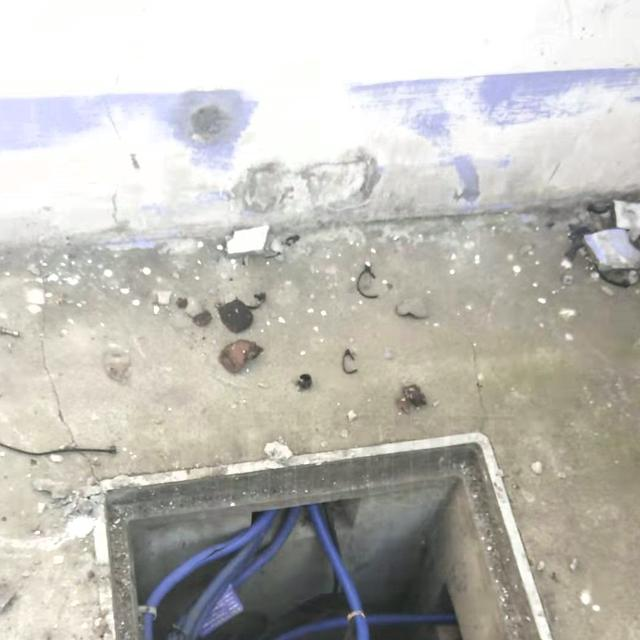lose: (92, 429, 572, 640)
